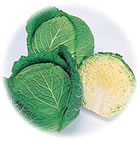cabbage: (1, 45, 84, 129), (78, 50, 138, 121), (25, 5, 94, 60)
